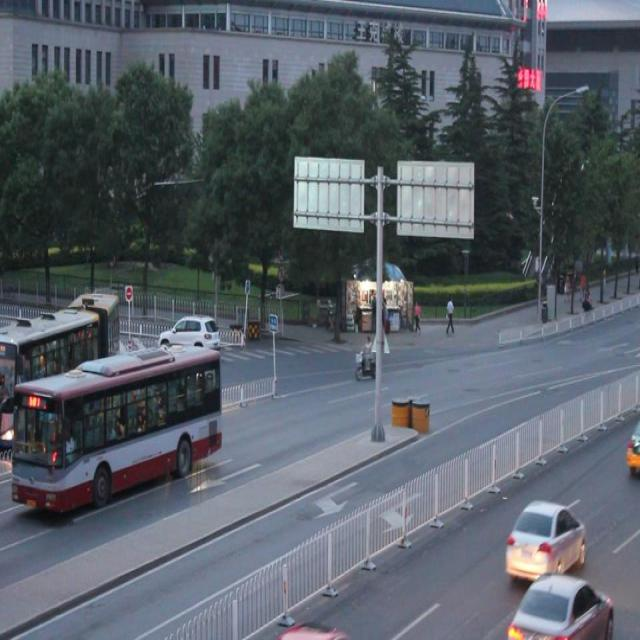car: (503, 570, 611, 640), (503, 498, 584, 578), (162, 309, 223, 359), (121, 332, 167, 387), (275, 612, 349, 640)
van: (14, 344, 222, 515), (1, 289, 122, 447)
